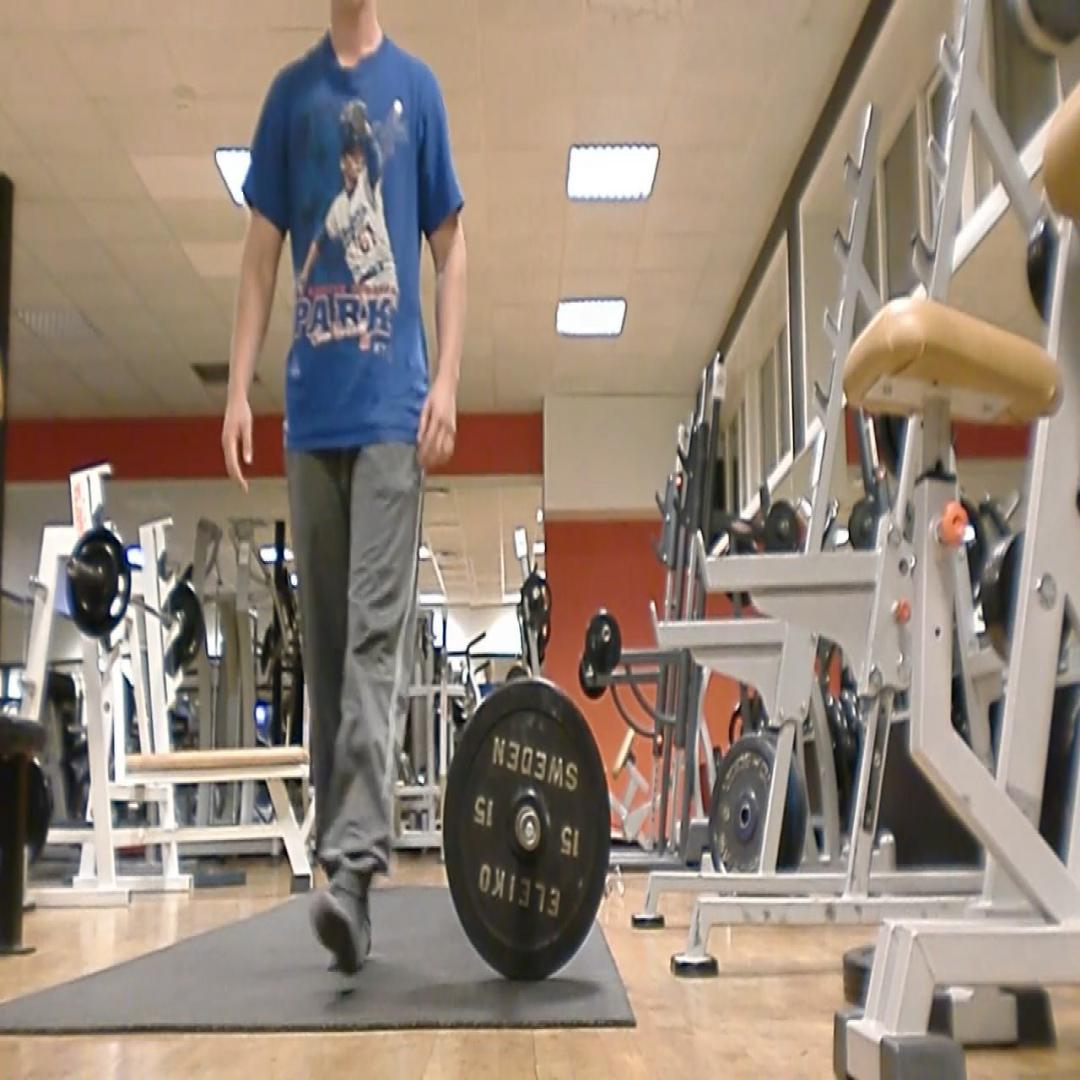Bar: (516, 807, 542, 852)
Barbell: (443, 678, 611, 982)
